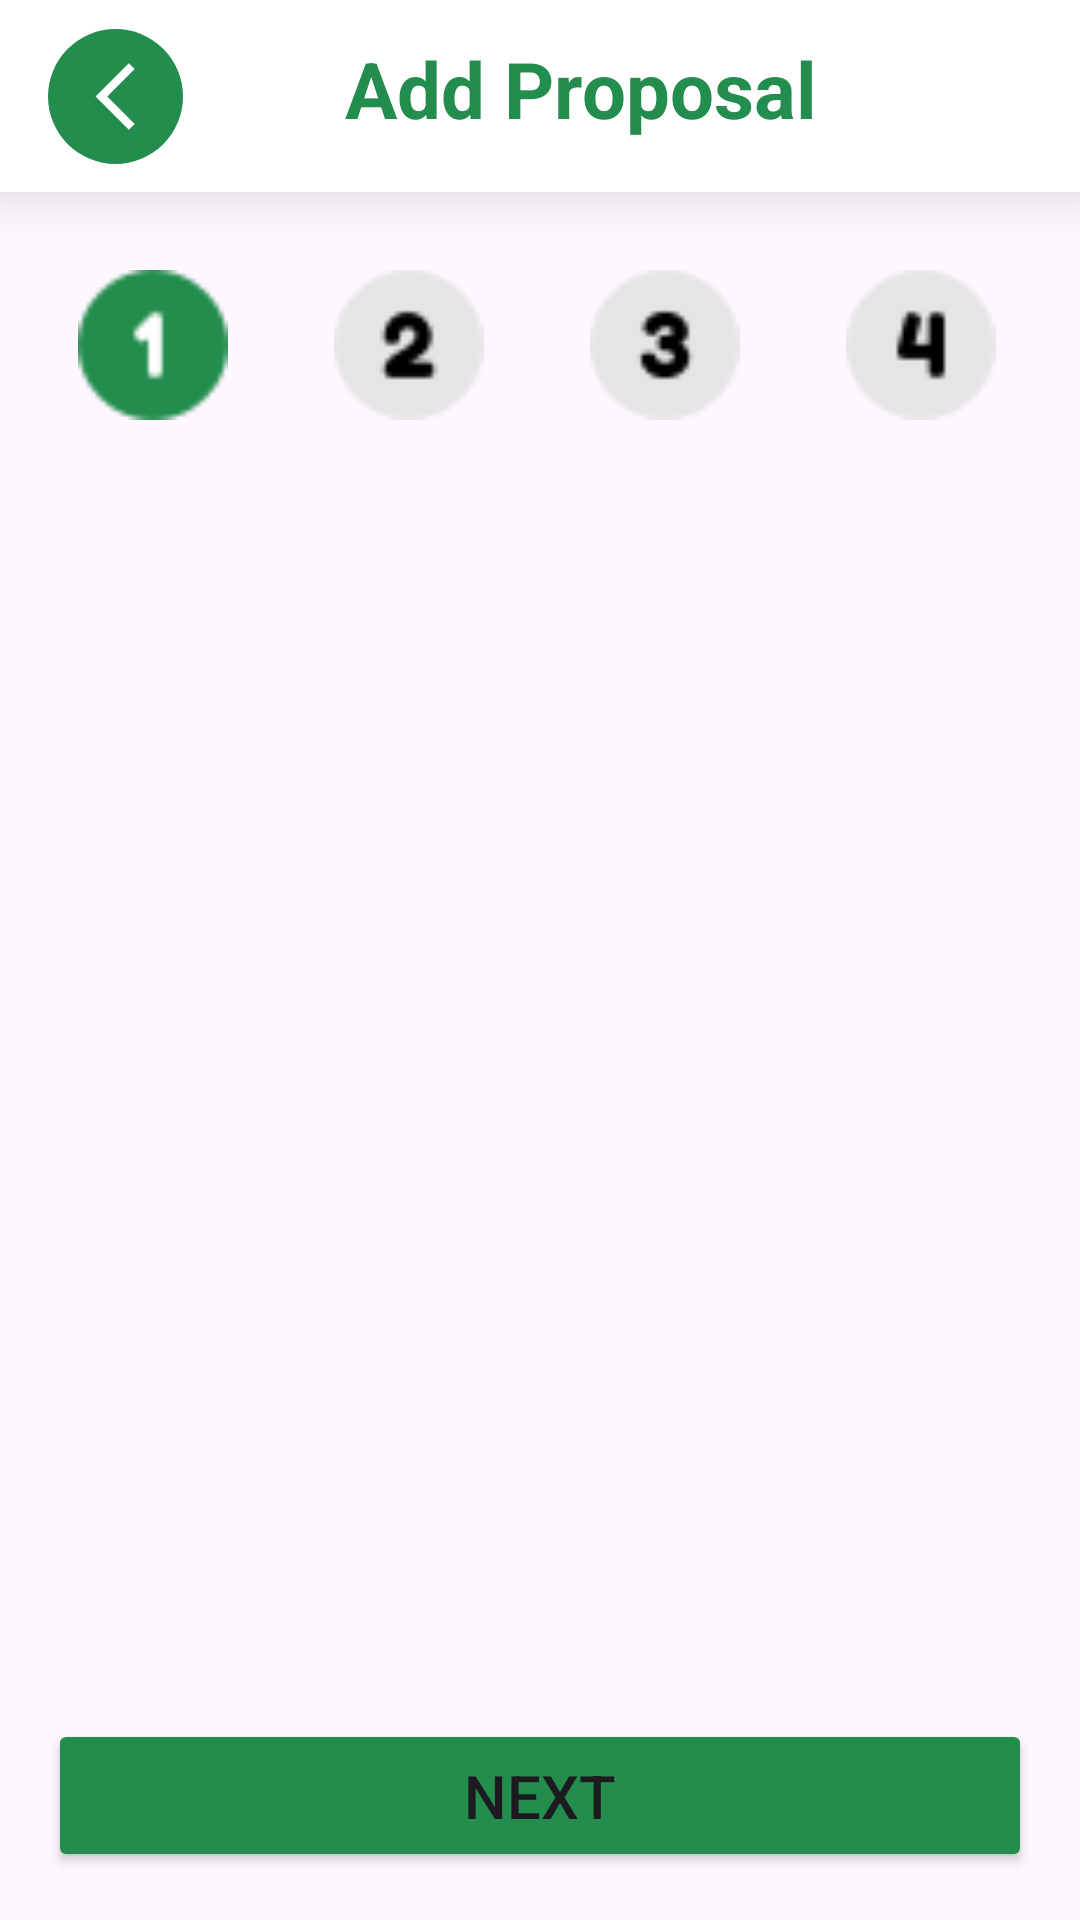

Point at icon controls on the screen. Image size 1080*1920, points as (x=x, y=y).
Back: (x=115, y=96)
